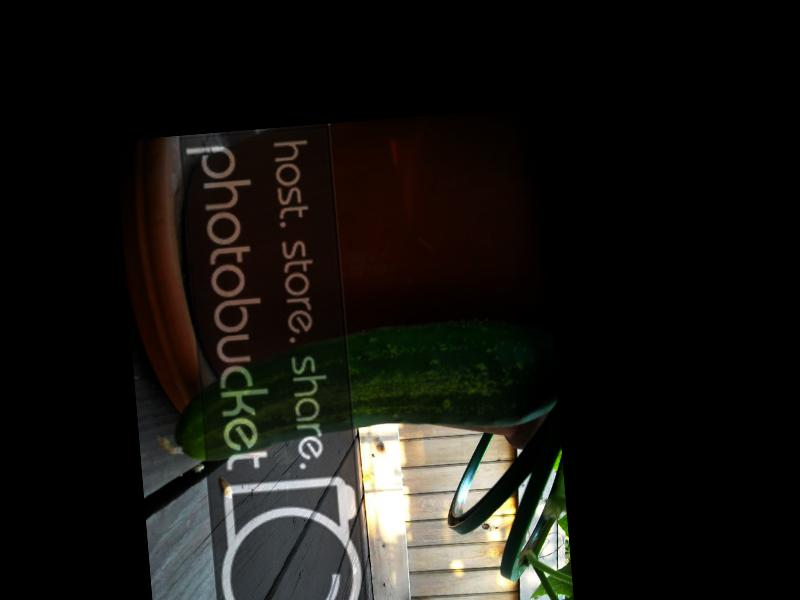Cucumber: (150, 312, 555, 465)
